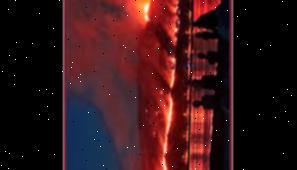fire: (129, 127, 171, 170), (135, 0, 181, 35), (166, 54, 180, 124)
